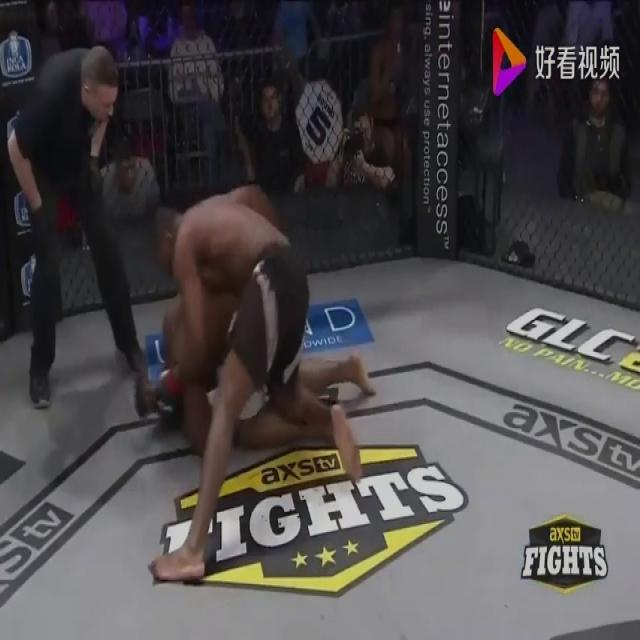fight: (146, 177, 377, 584)
non-fight: (0, 26, 163, 412)
